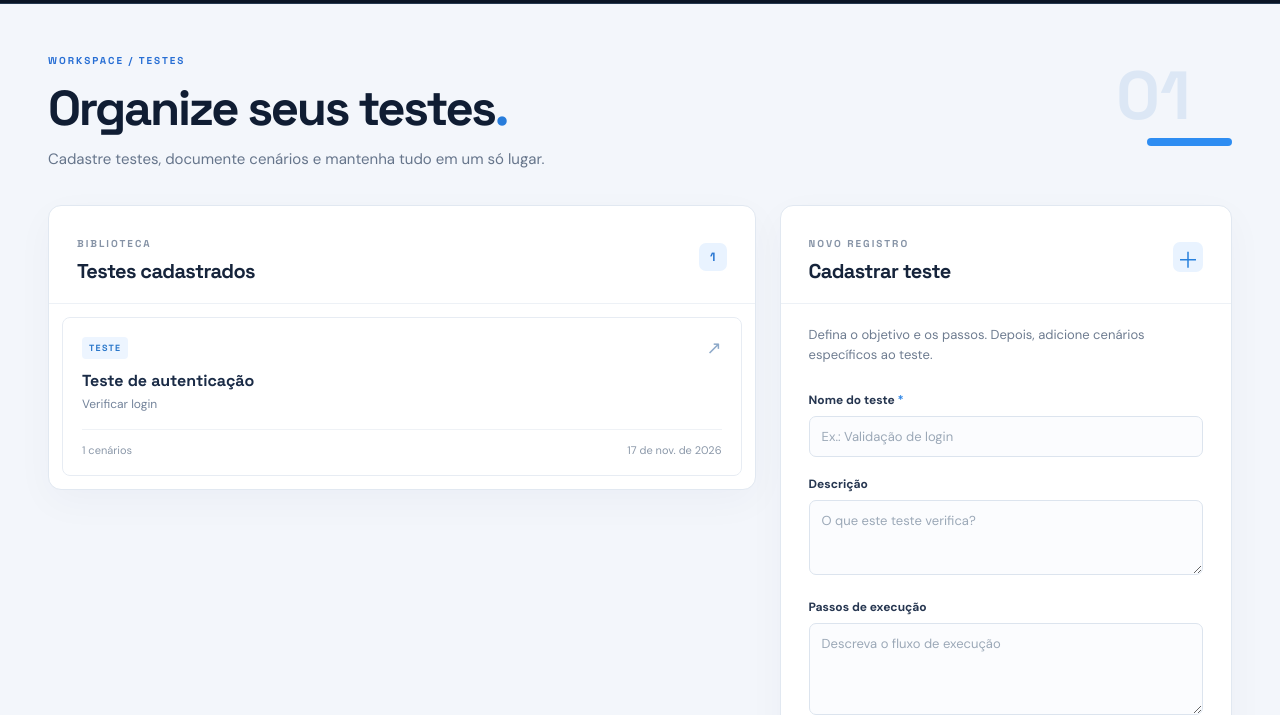
Test: TES-55/56/61/62: execução manual e histórico › finaliza como reprovado e atualiza o resultado na listagem
The width and height of the screenshot is (1280, 715).
Click the button "Teste de autenticação".
click(105, 348)  # box [62,317,742,476]
(page scrolled)
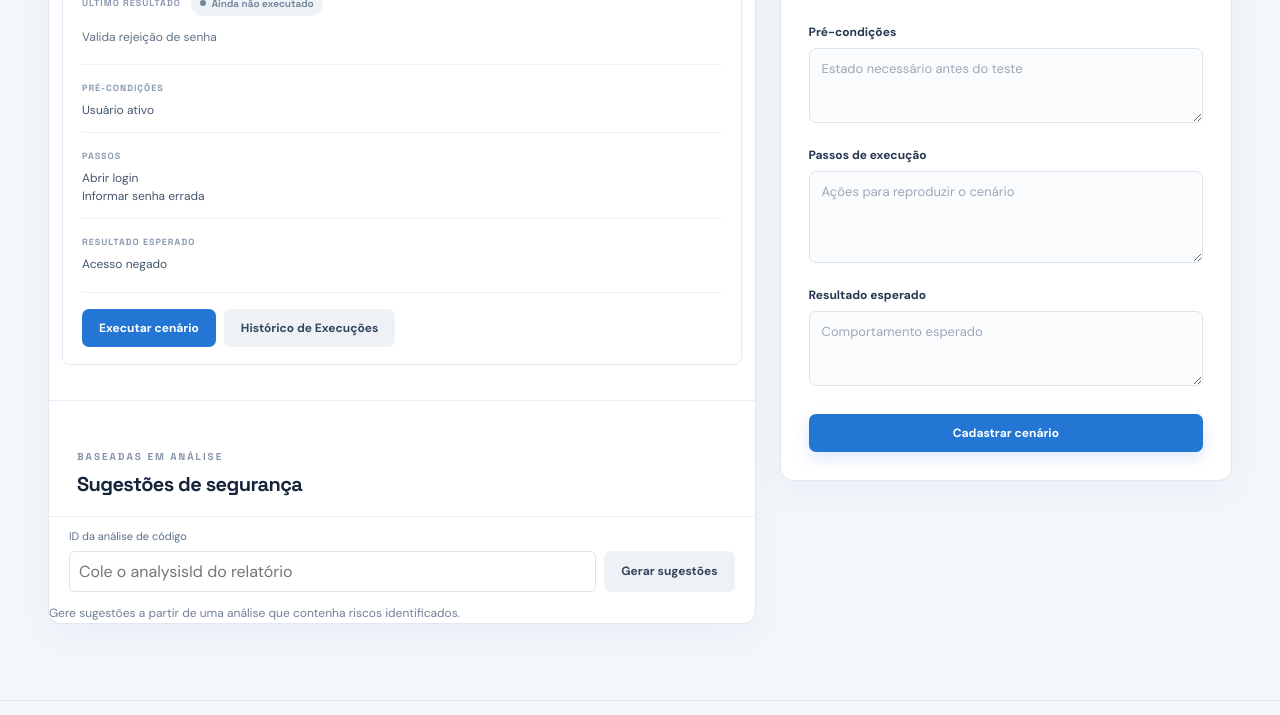
Click the button "Executar cenário".
click(149, 328)  # box [82,309,216,347]
(page scrolled)
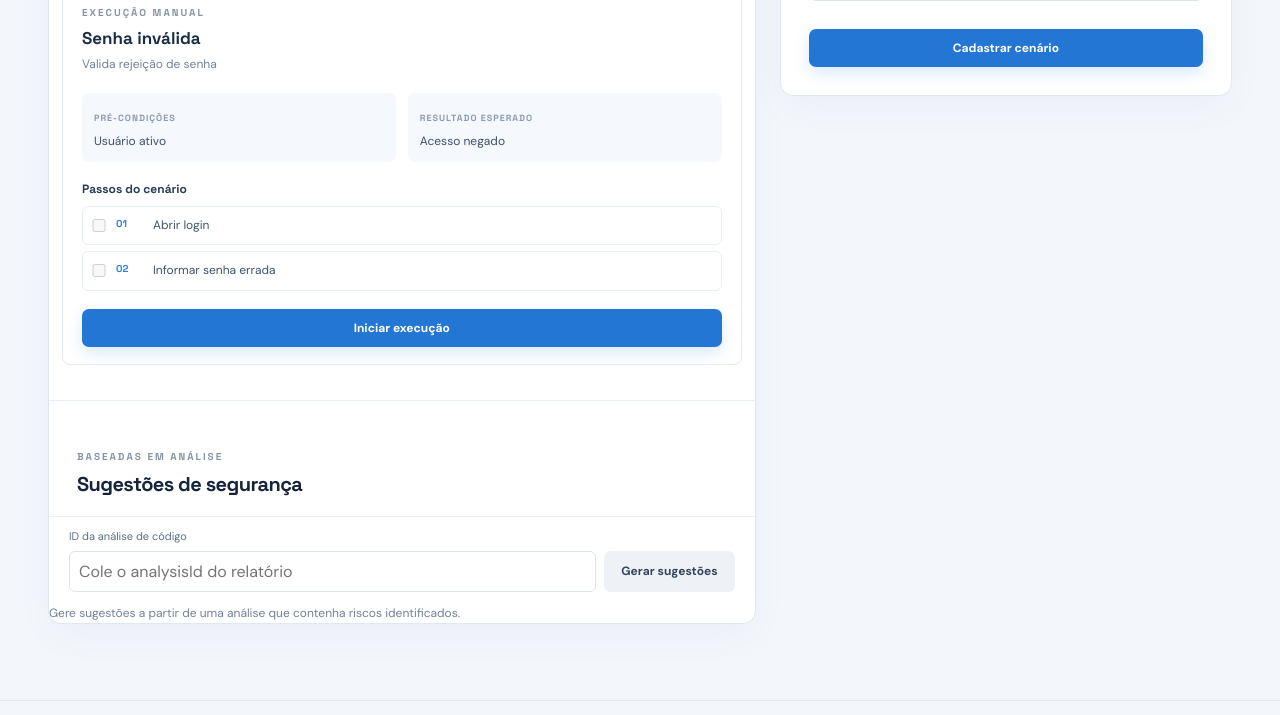
Click the button "Iniciar execução".
click(402, 328)  # box [82,308,722,346]
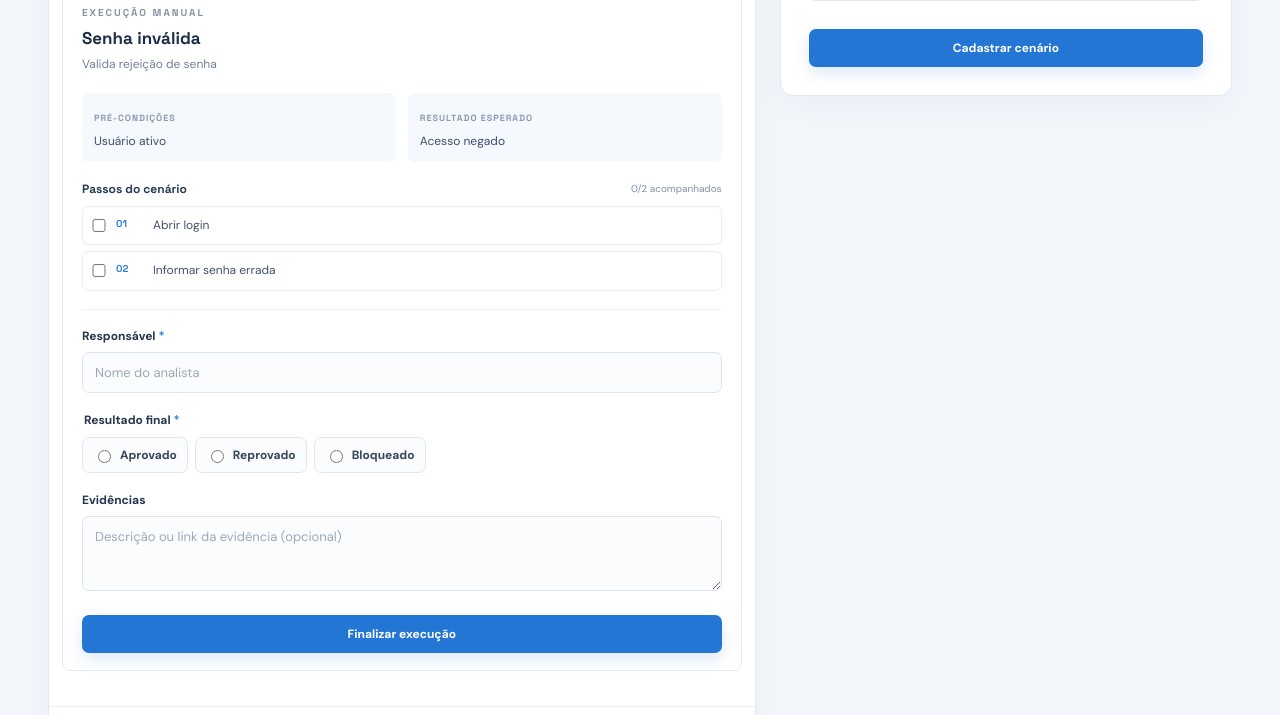
Expected: the field labelled "Responsável *" is shown
Type "Ana QA" into the field labelled "Responsável *".
click(402, 372); type("Ana QA")  # box [82,352,722,392]
Click the radio button labelled "Reprovado".
click(217, 456)  # box [211,450,224,462]
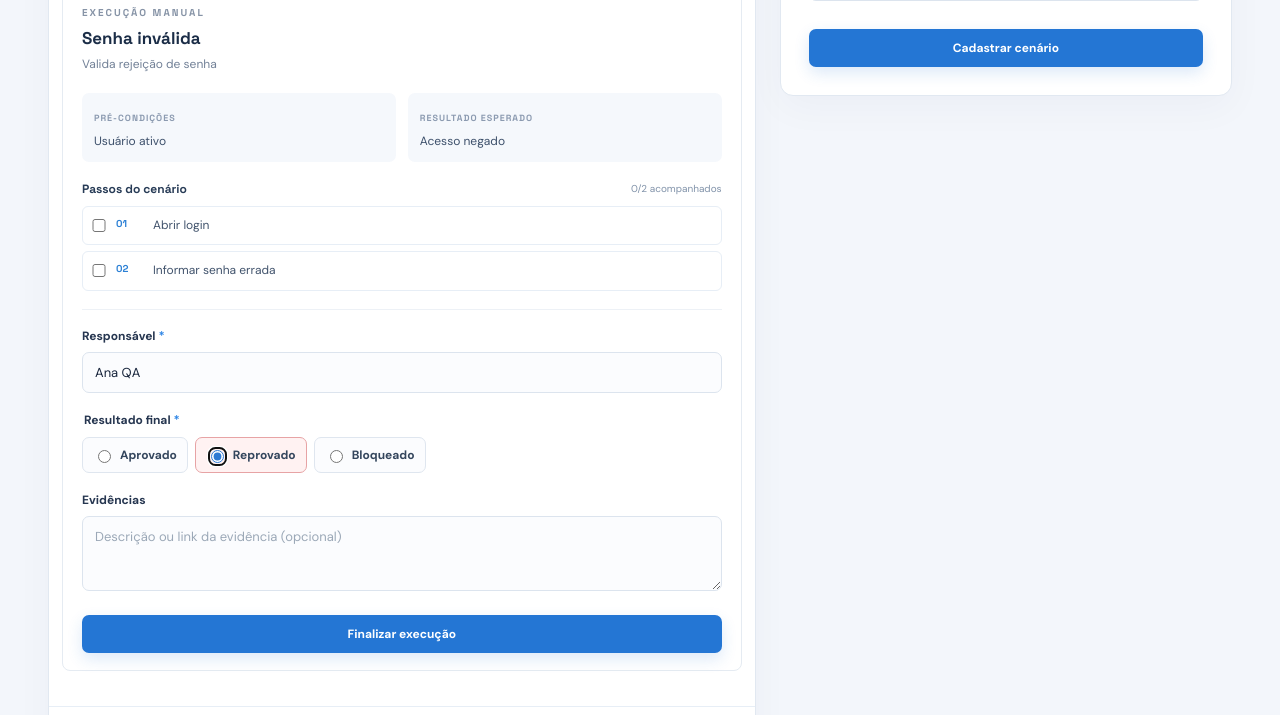
Type "Captura" into the text box labelled "Evidências".
click(402, 553); type("Captura")  # box [82,516,722,590]
Click the button "Finalizar execução".
click(402, 634)  # box [82,614,722,652]
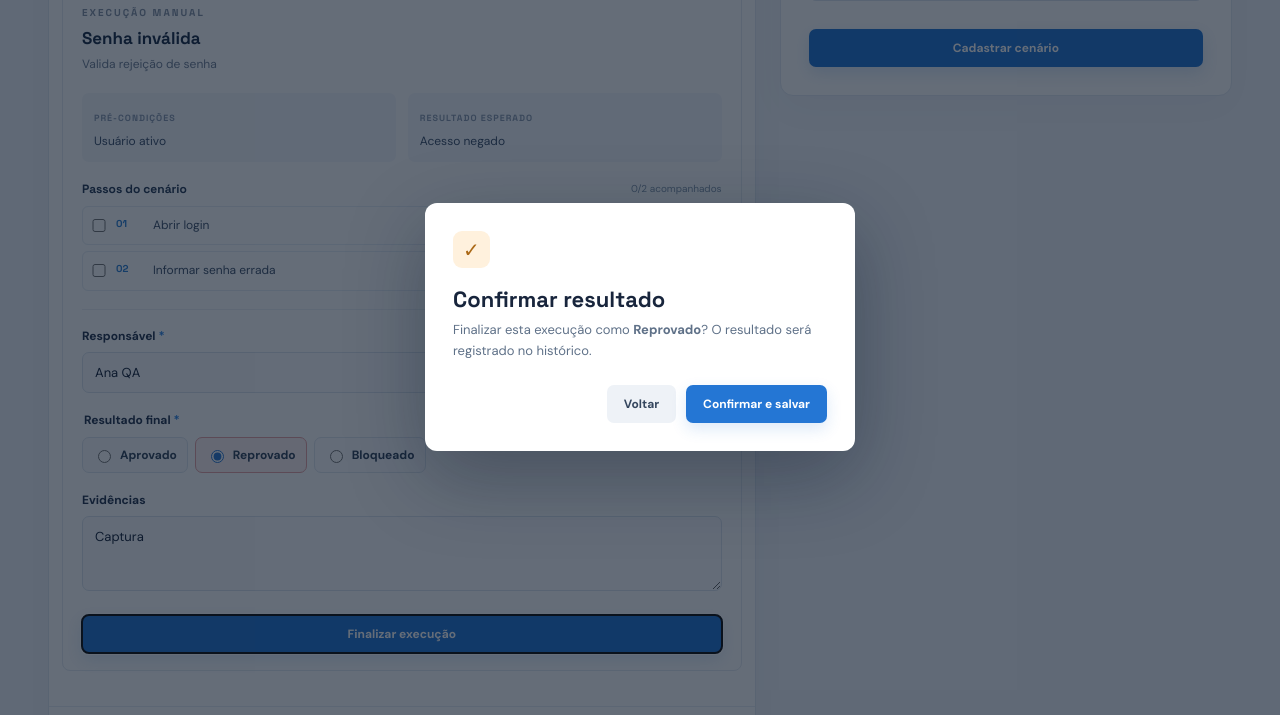
Expected: the text "Finalizar esta execução" is shown, [453,321,633,338]
Click the button "Confirmar e salvar".
click(757, 404)  # box [686,385,827,423]
(page scrolled)
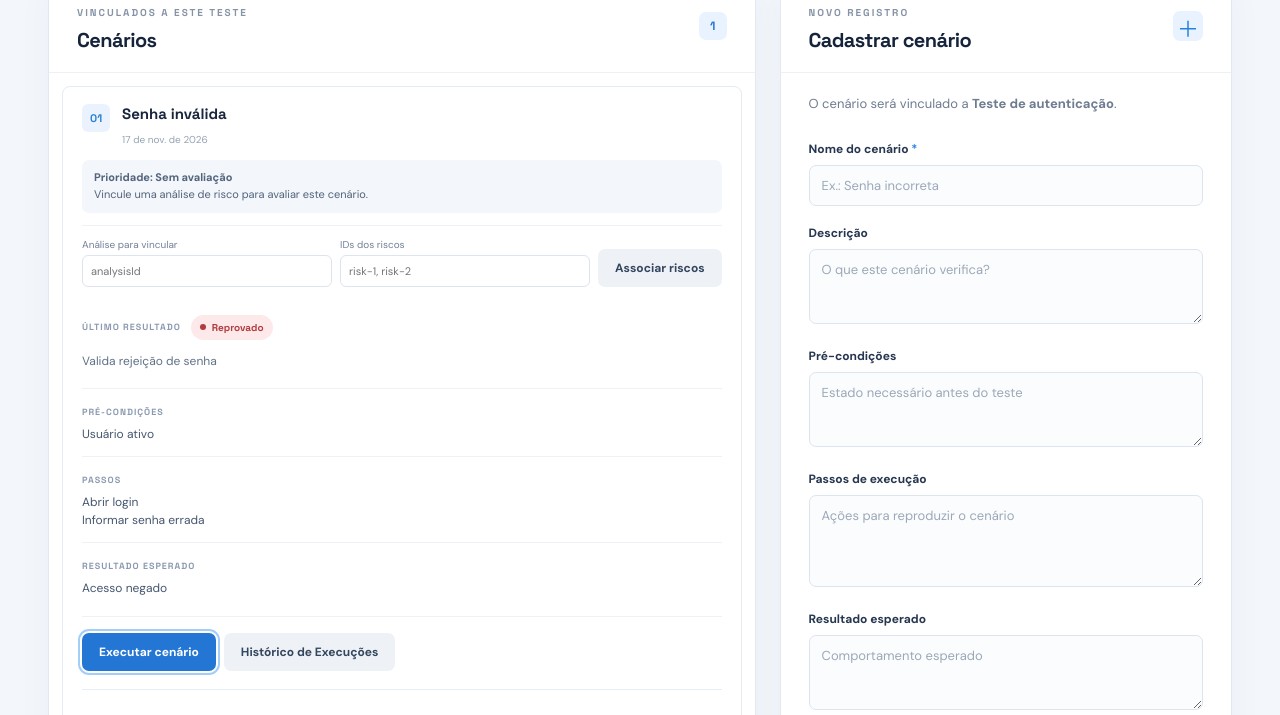
Expected: the text "Reprovado" is shown, [191,315,272,340]
